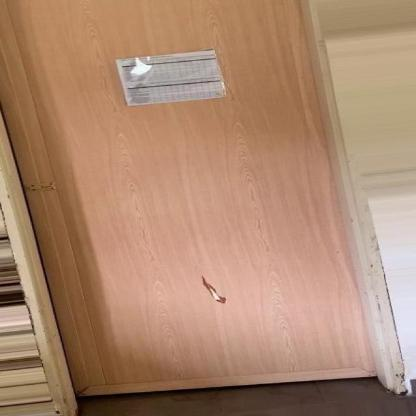door: (0, 0, 407, 408)
